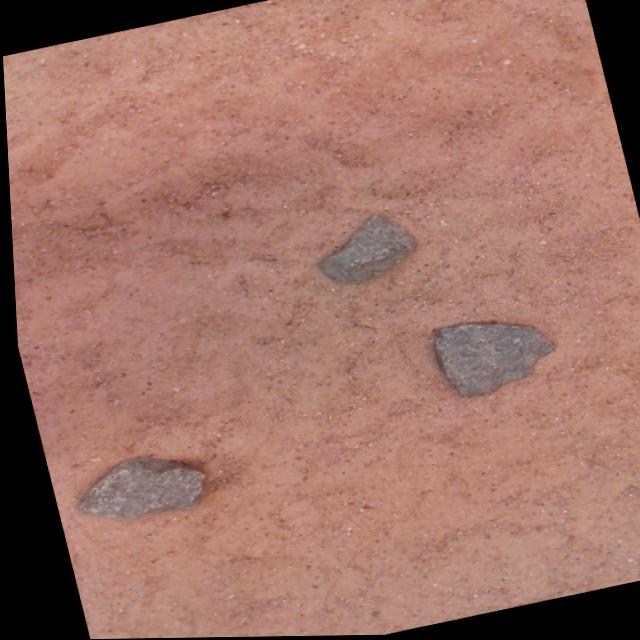rock: (432, 324, 551, 398), (72, 457, 199, 518), (316, 218, 414, 285)
